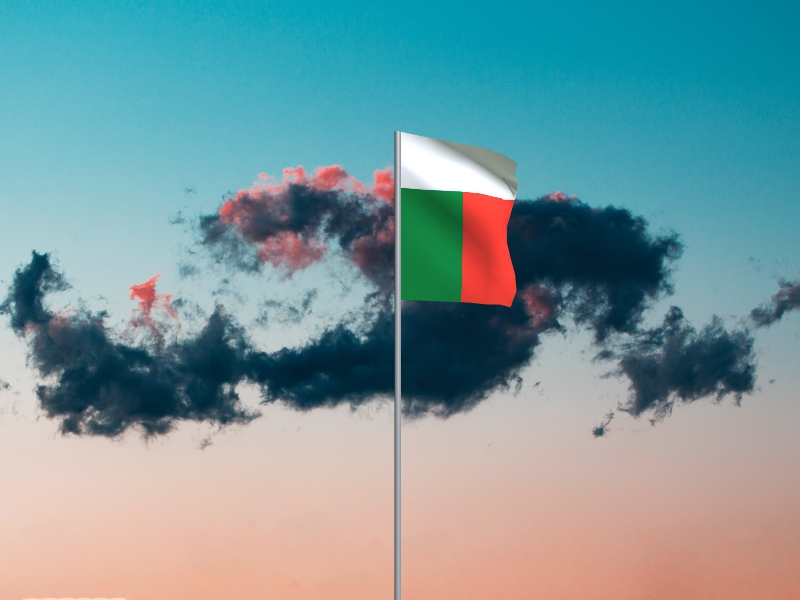mg: (402, 133, 521, 309)
